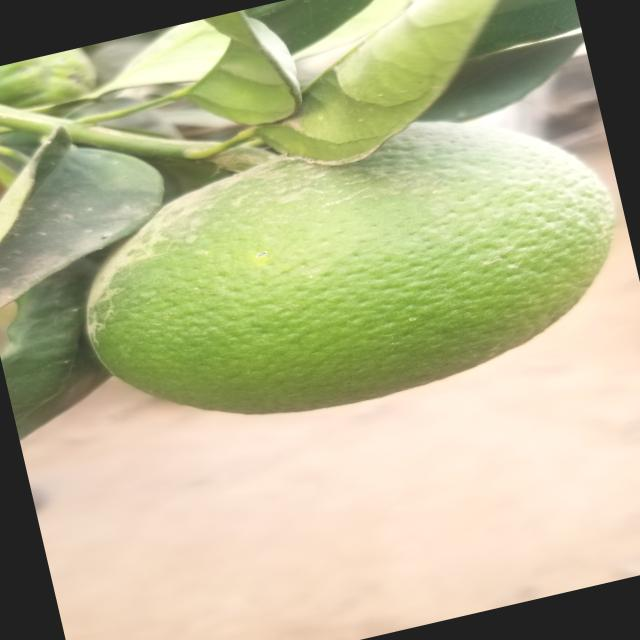Unripe: (40, 81, 640, 472)
